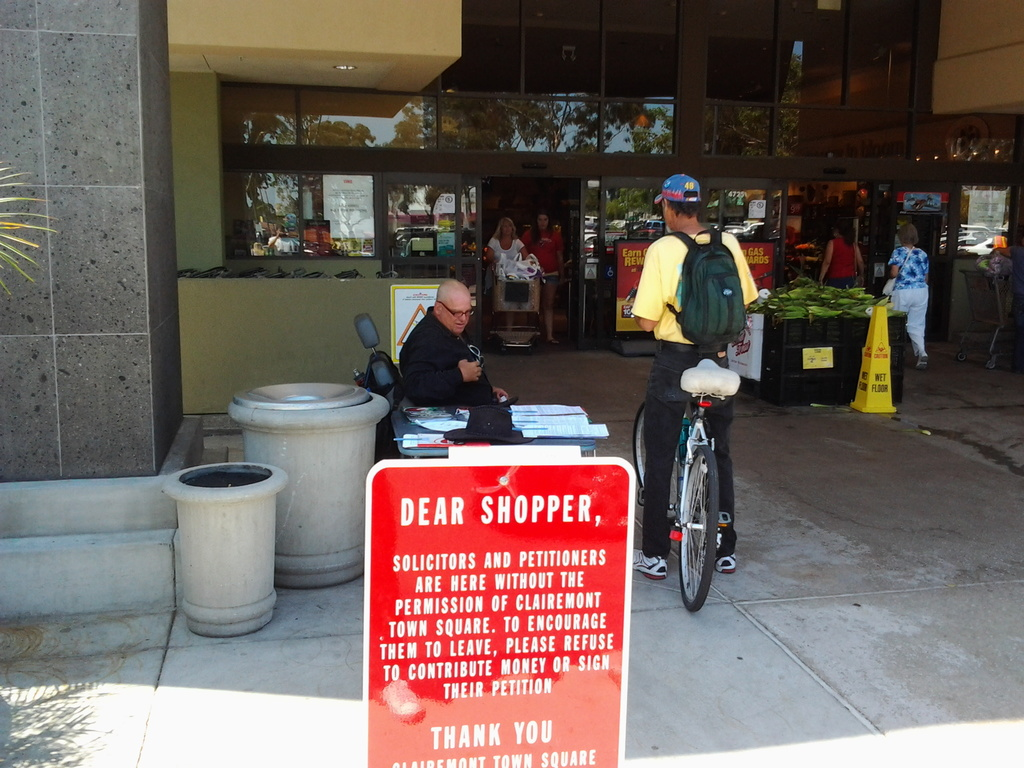Bike_away: (625, 294, 771, 614)
